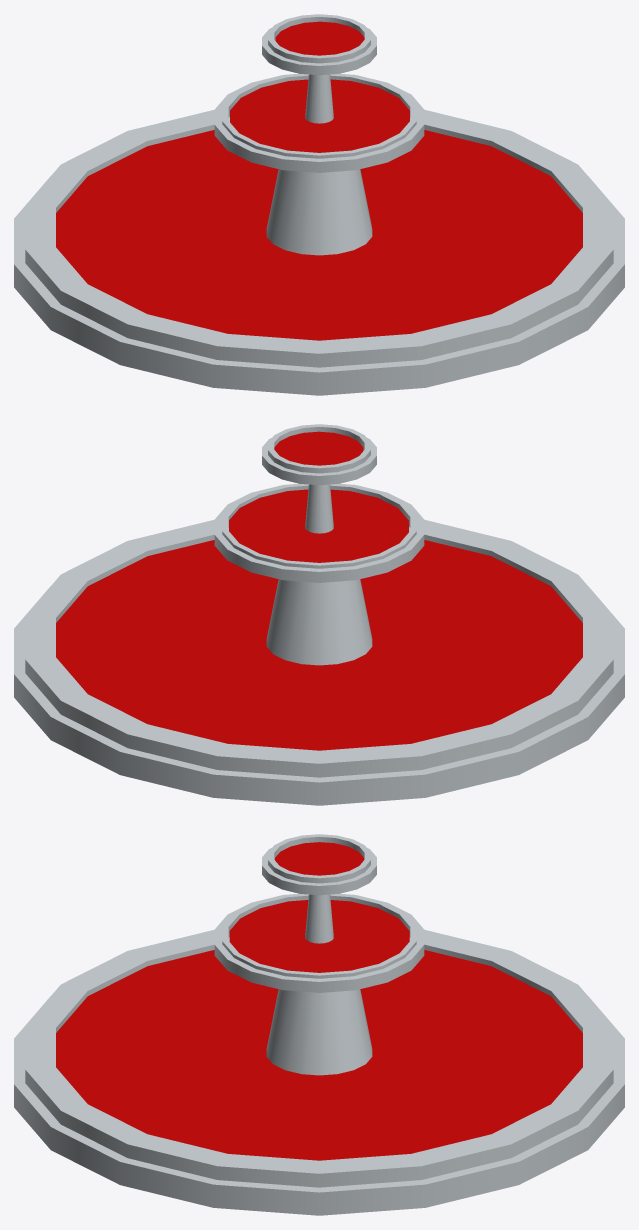
The model's file is Fountain_M_V1_Raghu.FBX.
3 renders of one model, top to bottom at view 1: azimuth 30°, elevation 25°; view 2: azimuth 150°, elevation 25°; view 3: azimuth 270°, elevation 25°, orthographic.
Parts seen in each view (by area): view 1: Fountain; view 2: Fountain; view 3: Fountain.
Part boxes in pixels (x1,y1,x2,y2): Fountain: (14,14,624,395); Fountain: (14,424,624,805); Fountain: (14,834,624,1215).
Size of what is drawn, in the model's own units: 400 by 163 by 394.
